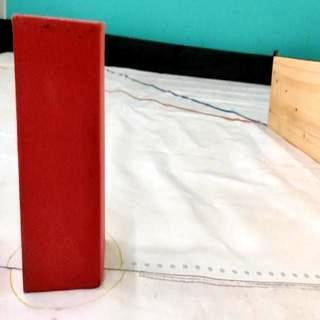redbox: (12, 14, 105, 292)
